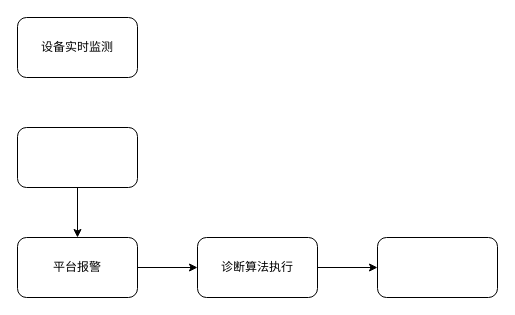
Image size: 515x315. Some labels were removed from this diagram. Here are the shapes that lost their labels. From the top down, the centre of each, then its label:
At point (77, 157): "监测算法".
At point (437, 267): "自动生成诊断报告".
